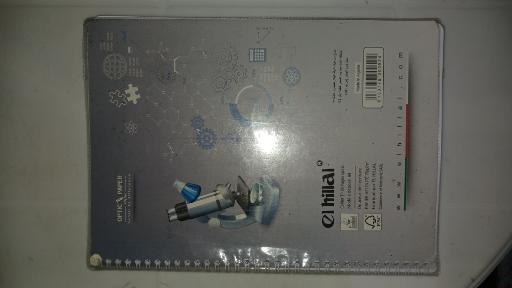notebook: (89, 18, 442, 272)
